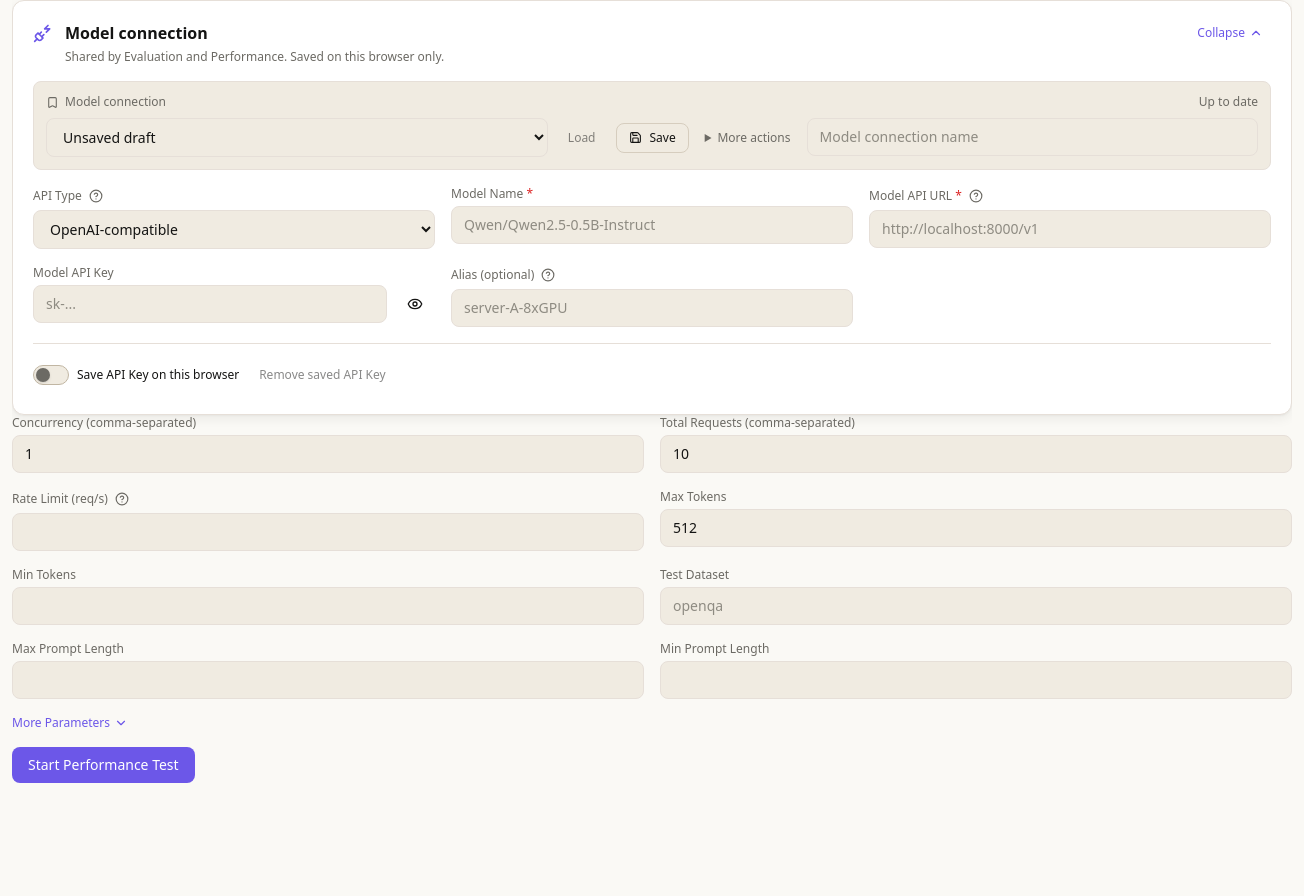
Test: PerfConfigForm submit contract › toggles the More Parameters disclosure
Expected: the field labelled "Tokenizer Path" is not shown
Click the button "More Parameters".
click(70, 723)  # box [12, 715, 128, 731]
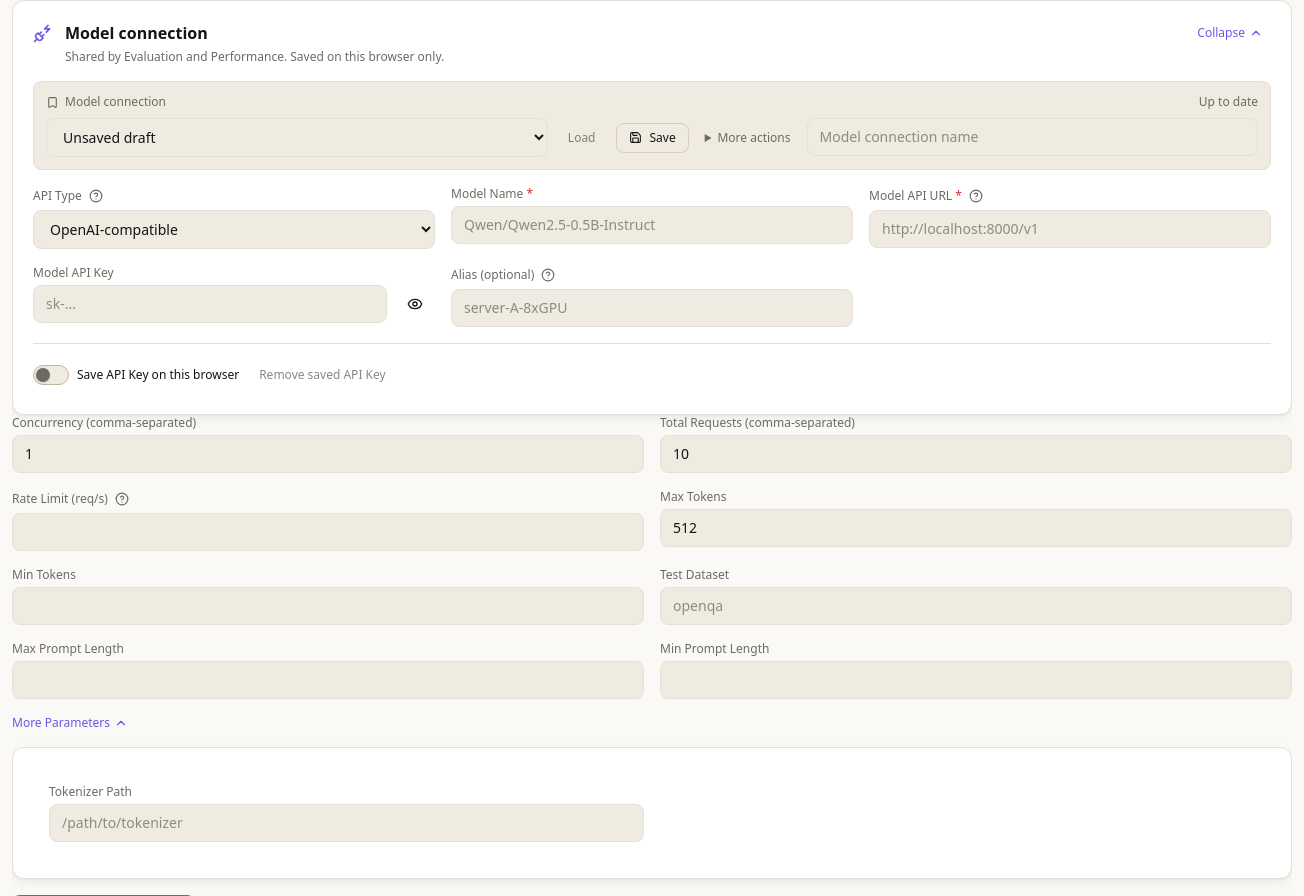
Expected: the field labelled "Tokenizer Path" is shown, [49, 804, 644, 842]
Click the button "More Parameters".
click(70, 723)  # box [12, 715, 128, 731]
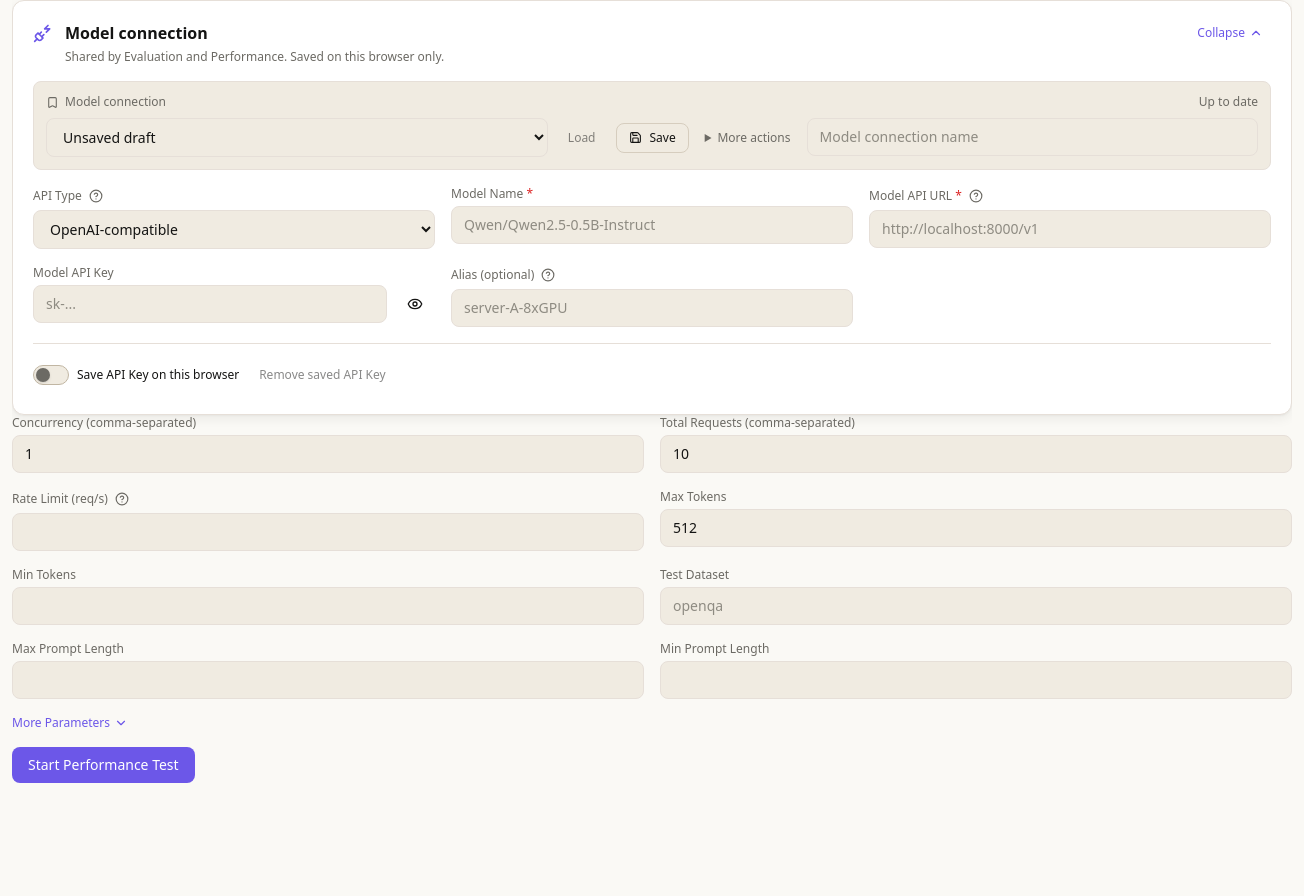
Expected: the label labelled "Tokenizer Path" is gone
